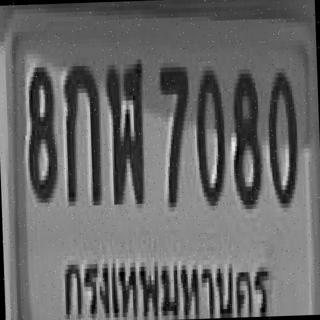A01: (61, 61, 100, 202)
A42: (104, 57, 145, 202)
N00: (265, 68, 298, 204), (193, 66, 226, 202)
N07: (158, 62, 190, 203)
N08: (228, 64, 261, 205), (24, 63, 57, 198)
P04: (55, 240, 275, 320)
